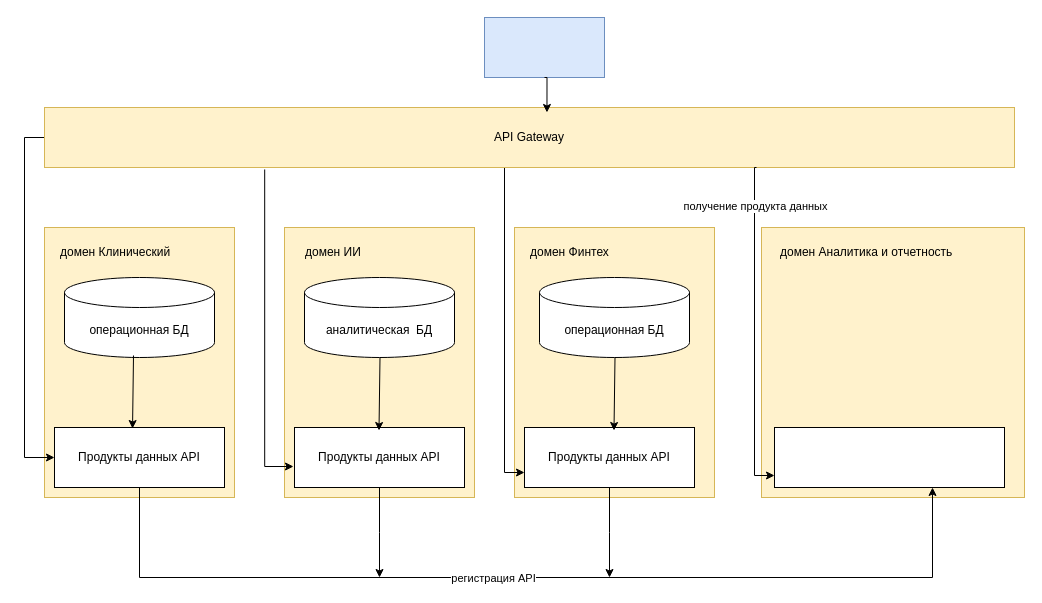
The diagram is 1042 pixels wide and 603 high, and some of its shapes have lost their labels. The shapes that lost their labels are listed below. From the top down, each one's box as (x1, y1, x2, y2) in pixels, then its label:
(484, 16, 604, 78): внешние партнеры
(774, 426, 1004, 488): Каталог данных
